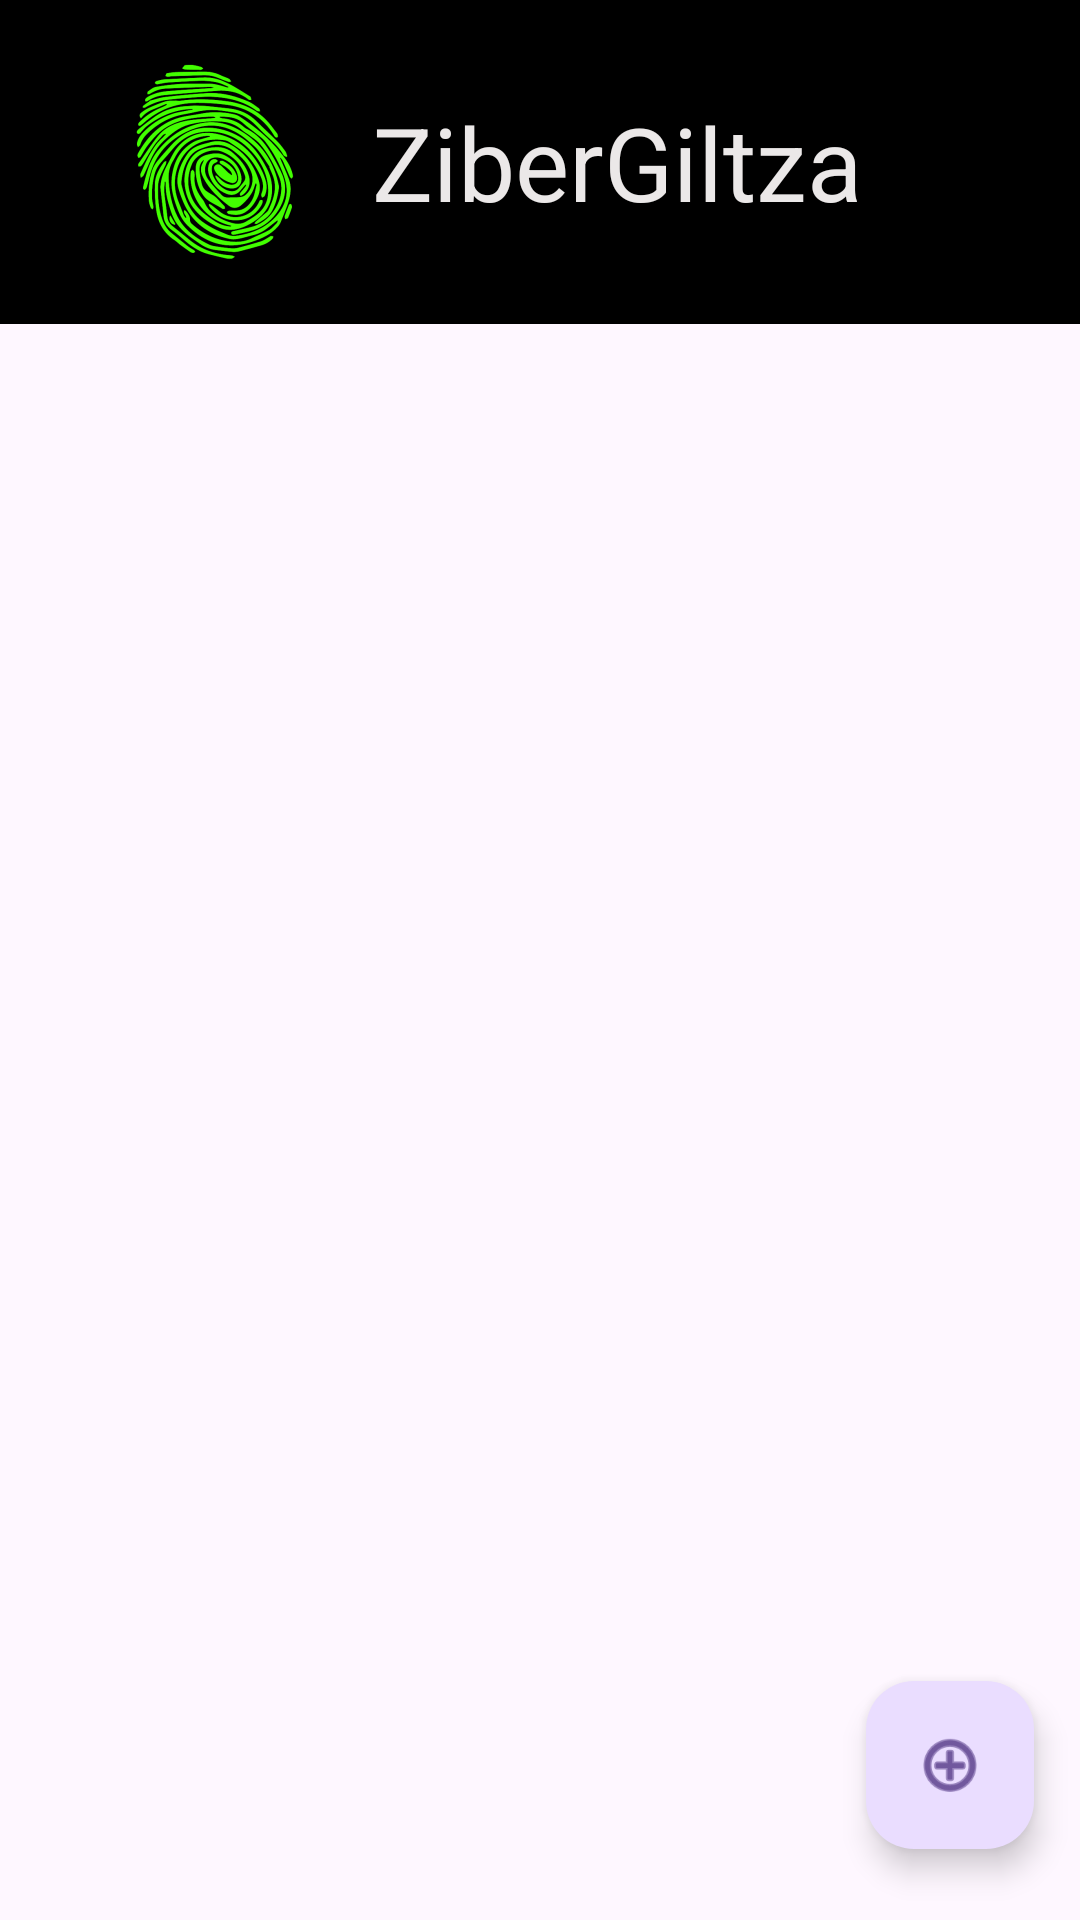

Where to tap for icons on this 1080px×1920px app screen, as point (x, y):
add: point (950, 1765)
